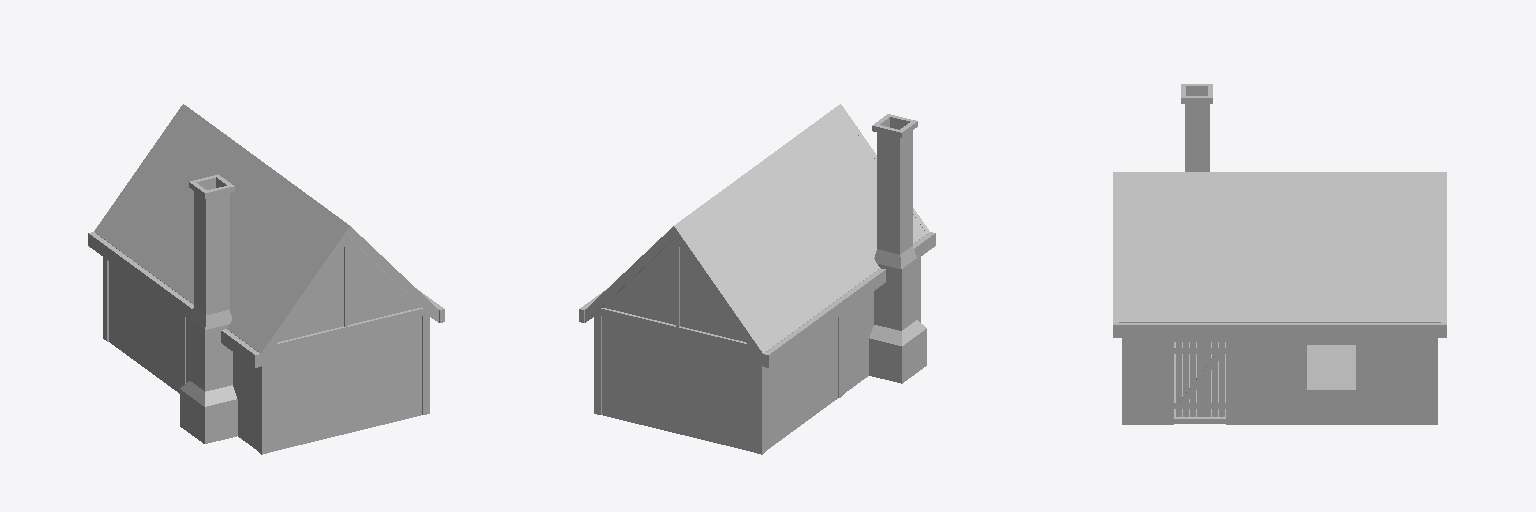
File: houze.obj
3 views of the same model, side by side, from view 1: azimuth 30°, elevation 25°; view 2: azimuth 150°, elevation 25°; view 3: azimuth 270°, elevation 25° (orthographic).
Visible parts, largest first — view 1: Cube; view 2: Cube; view 3: Cube.
Boxes of the visible parts, x1=… form: Cube: x1=88, y1=104, x2=444, y2=454; Cube: x1=579, y1=104, x2=935, y2=454; Cube: x1=1113, y1=84, x2=1446, y2=424.
Bounding box in the file's own units: 3.56 × 3.98 × 4.88.